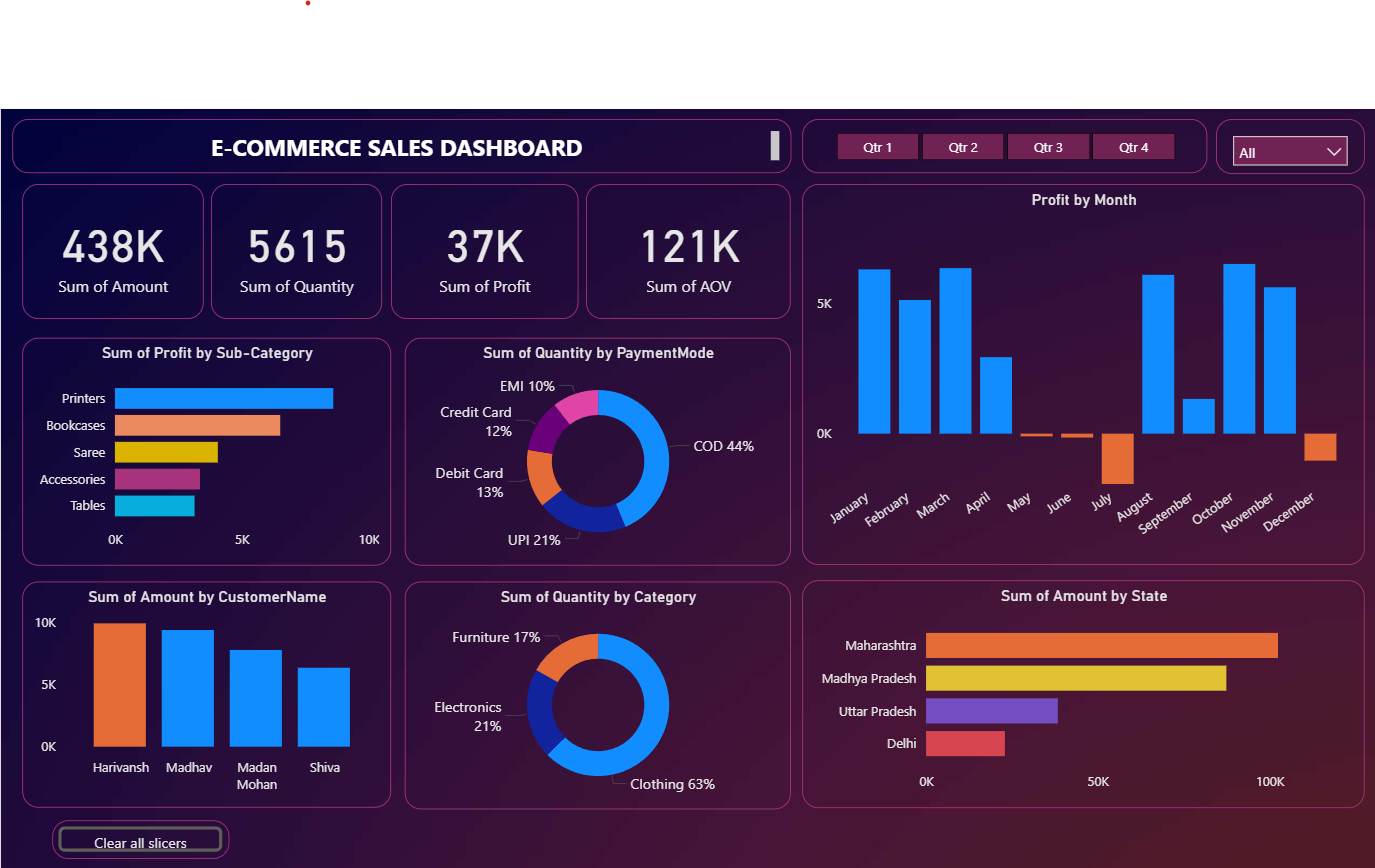

This screenshot's page, from the dashboard's own definition file:
{"tool":"powerbi","page":{"name":"Page 1","canvas":[1280,720],"ordinal":0},"visuals":[{"type":"textbox","box":[10.5,9.3,724.4,50],"z":0},{"type":"columnChart","title":"Profit by Month","fields":{"Category":["Orders.Order Date.Variation.Date Hierarchy.Month"],"Y":["Sum(Details.Profit)"]},"box":[745.4,69.8,523.3,354.7],"z":1000},{"type":"barChart","fields":{"Category":["Details.Sub-Category"],"Y":["Sum(Details.Profit)"]},"box":[19.8,212.8,343,211.6],"z":2000},{"type":"donutChart","fields":{"Category":["Details.Category"],"Y":["Sum(Details.Quantity)"]},"box":[375.6,439.5,359.3,211.6],"z":3000},{"type":"donutChart","fields":{"Y":["Sum(Details.Quantity)"],"Category":["Details.PaymentMode"]},"box":[375.6,212.8,359.3,211.6],"z":4000},{"type":"card","fields":{"Values":["Sum(Details.Amount)"]},"box":[19.8,69.8,168.6,125.6],"z":5000},{"type":"card","fields":{"Values":["Sum(Details.Quantity)"]},"box":[195.3,69.8,159.3,125.6],"z":6000},{"type":"card","fields":{"Values":["Sum(Details.Profit)"]},"box":[362.8,69.8,174.4,125.6],"z":7000},{"type":"card","fields":{"Values":["Sum(Details.AOV)"]},"box":[544.2,69.8,190.7,125.6],"z":8000},{"type":"barChart","fields":{"Category":["Orders.State"],"Y":["Sum(Details.Amount)"]},"box":[745.4,438.4,523.3,211.6],"z":9000},{"type":"columnChart","fields":{"Category":["Orders.CustomerName"],"Y":["Sum(Details.Amount)"]},"box":[19.8,439.5,343,210.5],"z":10000},{"type":"slicer","fields":{"Values":["Orders.Order Date.Variation.Date Hierarchy.Quarter"]},"box":[745.4,9.3,376.7,50],"z":11000},{"type":"slicer","fields":{"Values":["Orders.State"]},"box":[1130.2,9.3,138.4,51.2],"z":12000},{"type":"actionButton","box":[48,661.4,164.7,35.7],"z":13000}]}

Visuals, with their boxes on the page's 1280x720 design canvas (x1, y1, x2, y2). These are canvas units, not pixel positions in the 1375x868 screenshot, which may show the page scaled, cropped or inside an application window:
textbox: [left=10, top=9, right=735, bottom=59]
"Profit by Month" columnChart: [left=745, top=70, right=1269, bottom=424]
barChart - Details.Sub-Category x Sum(Details.Profit): [left=20, top=213, right=363, bottom=424]
donutChart - Details.Category x Sum(Details.Quantity): [left=376, top=440, right=735, bottom=651]
donutChart - Sum(Details.Quantity) x Details.PaymentMode: [left=376, top=213, right=735, bottom=424]
card - Sum(Details.Amount): [left=20, top=70, right=188, bottom=195]
card - Sum(Details.Quantity): [left=195, top=70, right=355, bottom=195]
card - Sum(Details.Profit): [left=363, top=70, right=537, bottom=195]
card - Sum(Details.AOV): [left=544, top=70, right=735, bottom=195]
barChart - Orders.State x Sum(Details.Amount): [left=745, top=438, right=1269, bottom=650]
columnChart - Orders.CustomerName x Sum(Details.Amount): [left=20, top=440, right=363, bottom=650]
slicer - Orders.Order Date.Variation.Date Hierarchy.Quarter: [left=745, top=9, right=1122, bottom=59]
slicer - Orders.State: [left=1130, top=9, right=1269, bottom=60]
actionButton: [left=48, top=661, right=213, bottom=697]
